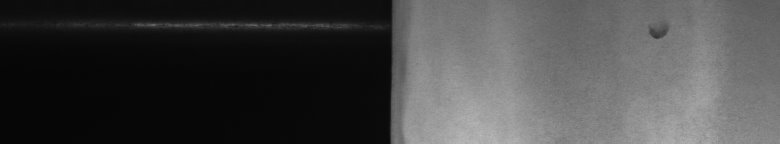fi: (645, 20, 674, 48)
